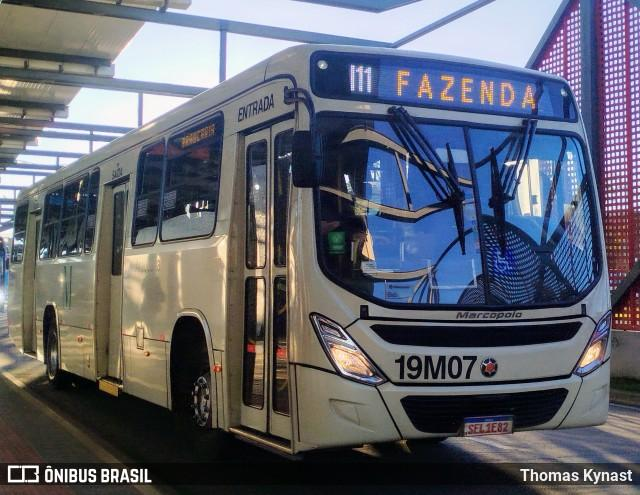FAZENDA: (389, 64, 539, 117)
